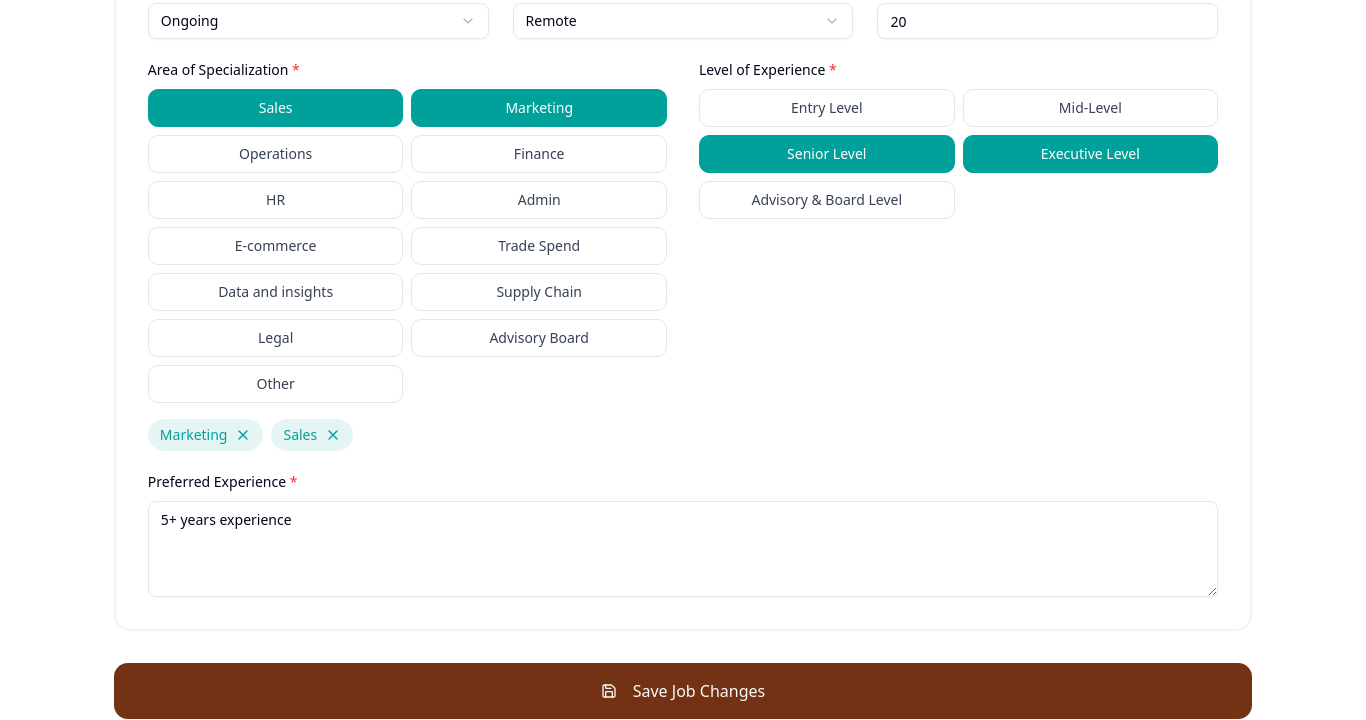
EditJobPage › Specialization Selection › adds custom specialization
This screenshot has width=1366, height=720.
(page scrolled)
Click the button "Other". click: [276, 384]
box: [148,365,403,403]
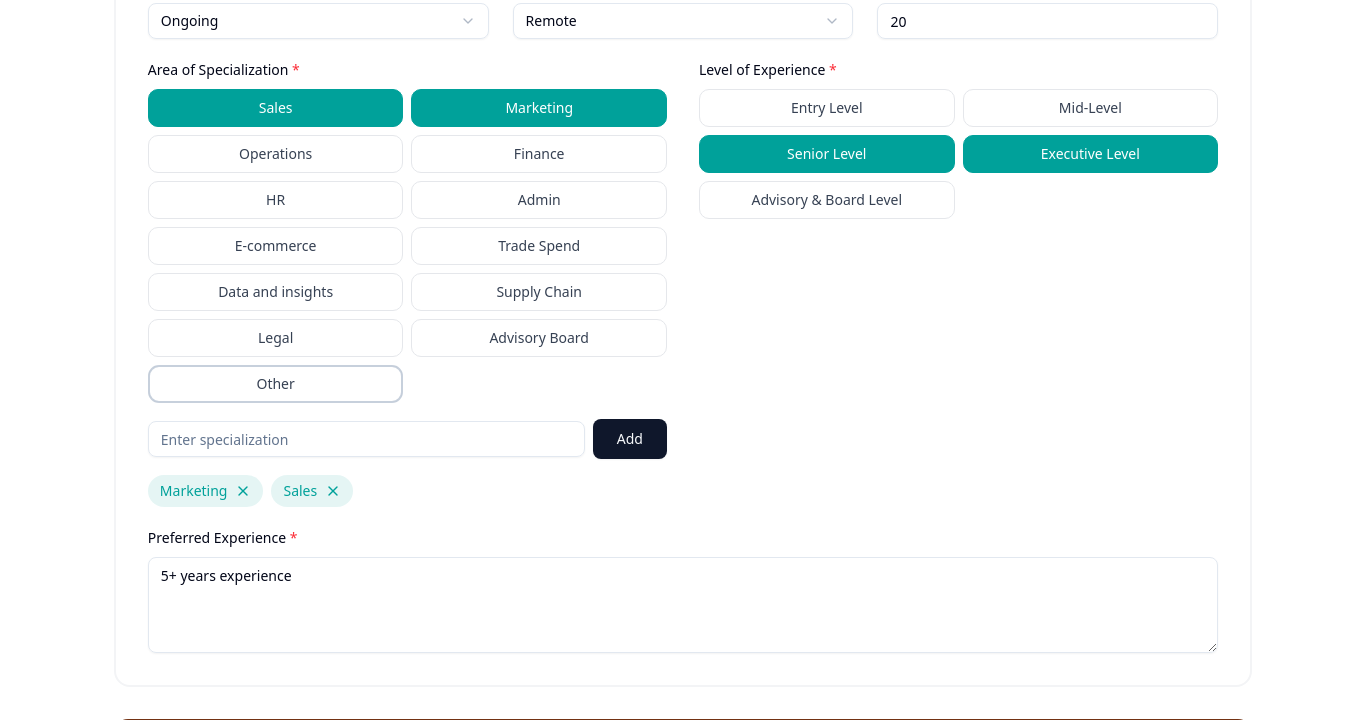
Type "Custom Spec" into the field with placeholder "Enter specialization". click: [366, 439]
box: [148,421,585,457]
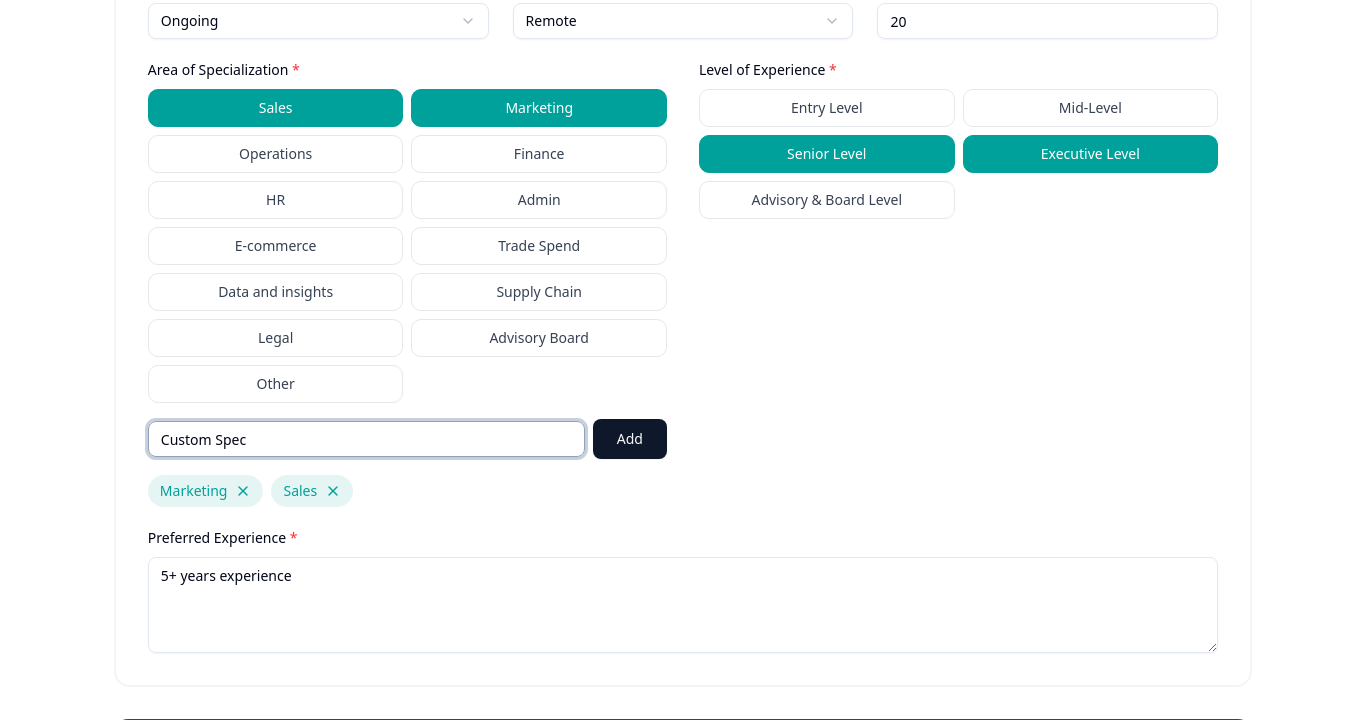
Click the button "Add". click: [630, 439]
box: [593,419,667,459]
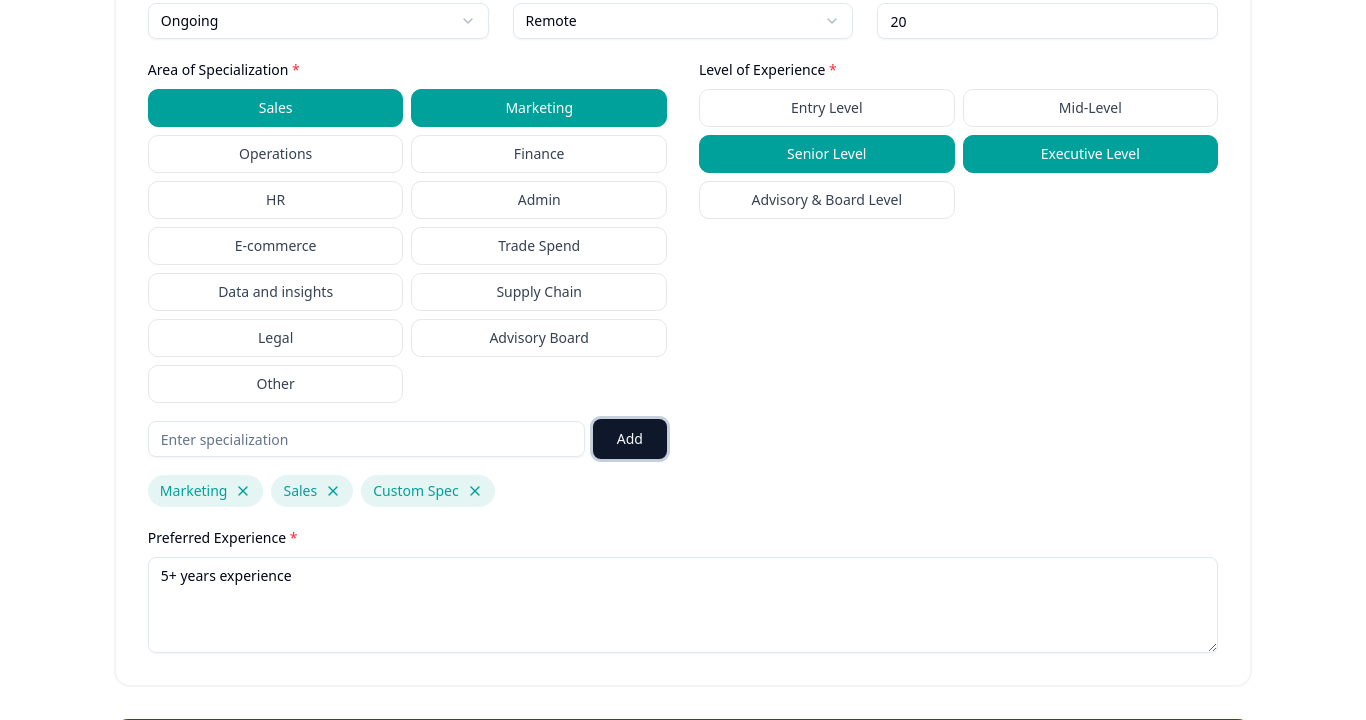
Result: the text "Custom Spec" is shown at [361,475,495,507]
